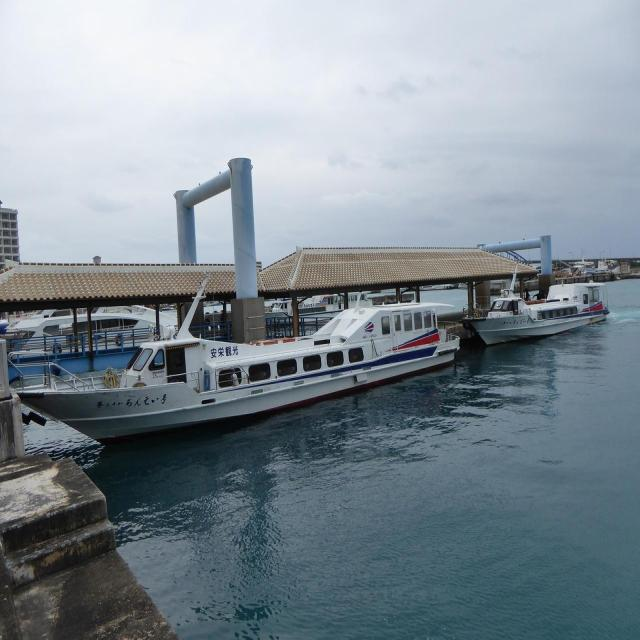passenger ship: (50, 292, 486, 412), (467, 260, 606, 340)
